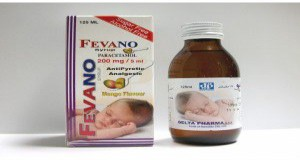Medicine: (65, 12, 156, 148), (166, 17, 247, 148)
